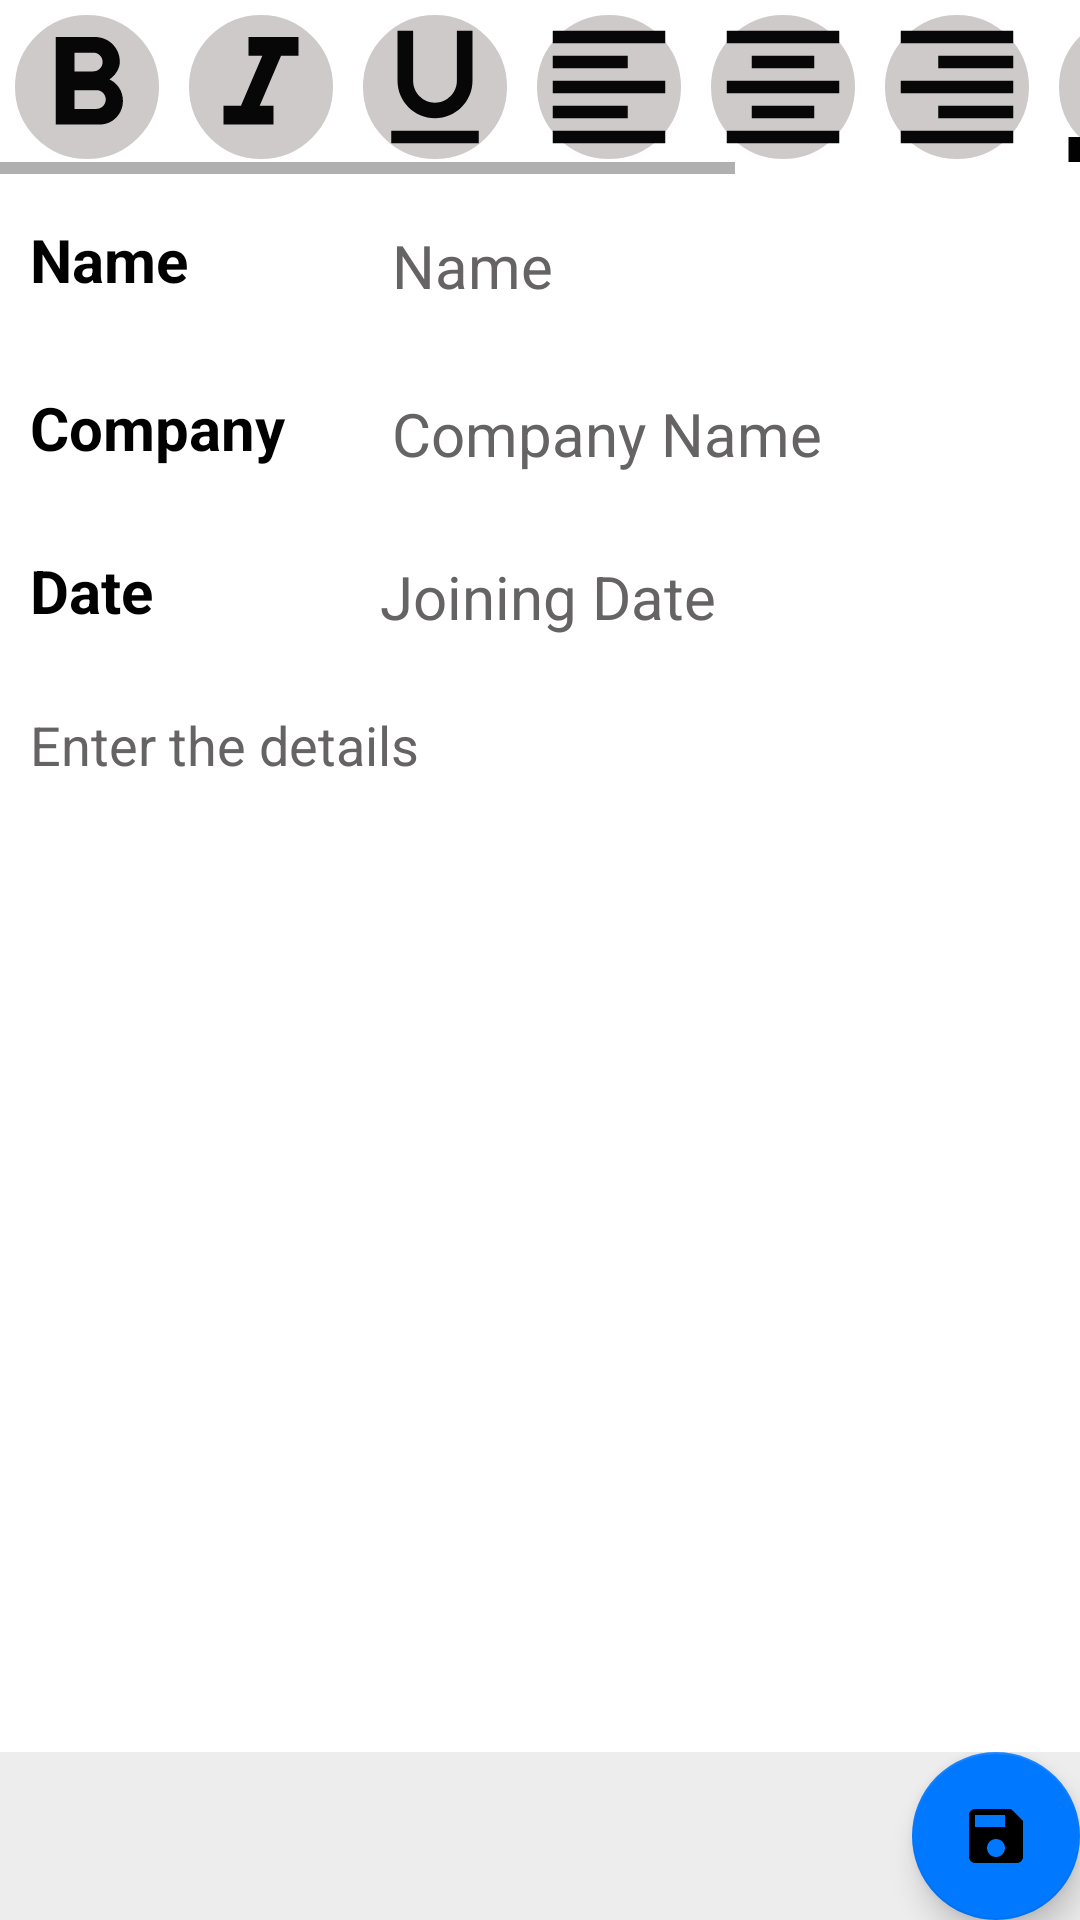

Icons on this 1080px x 1920px Android screen, each with its box as (x1, y1, x2, y2):
format align center: (711, 15, 855, 159)
format align left: (537, 15, 681, 159)
format align right: (885, 15, 1029, 159)
format italic: (189, 15, 333, 159)
format underlined: (363, 15, 507, 159)
save: (912, 1752, 1080, 1920)
